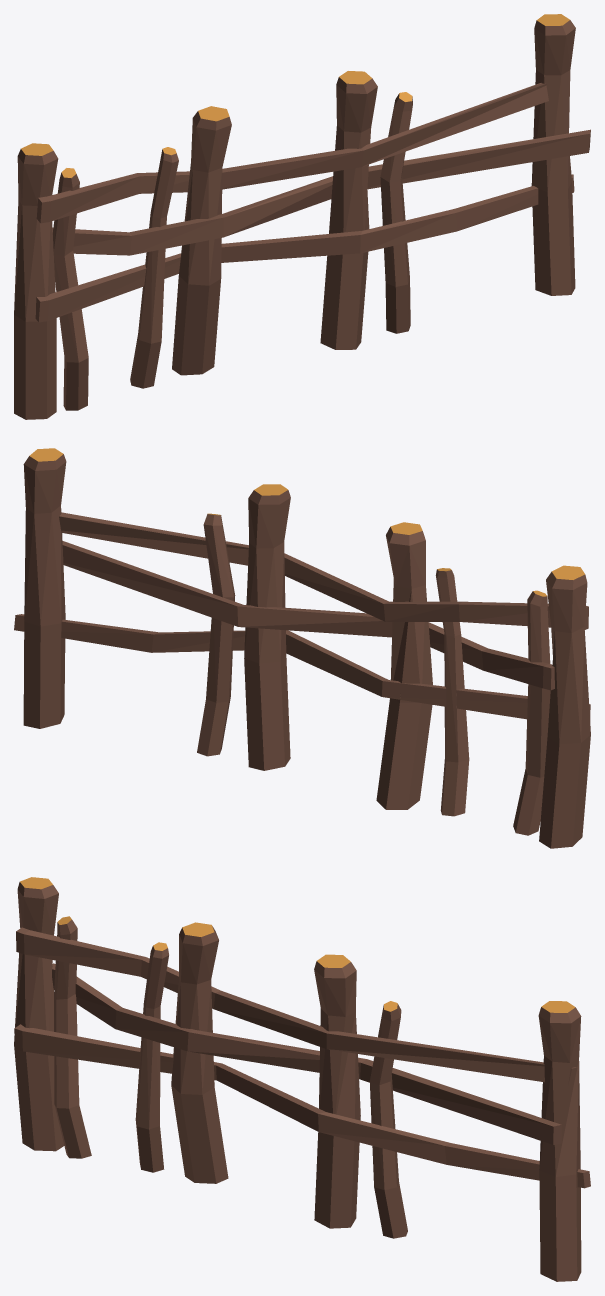
File: gate.glb
The picture shows the model from 3 angles, top to bottom: view 1: azimuth 30°, elevation 25°; view 2: azimuth 150°, elevation 25°; view 3: azimuth 330°, elevation 25°; orthographic projection.
Visible parts, largest first — view 1: group2124609110; view 2: group2124609110; view 3: group2124609110.
Boxes of the visible parts, <box> form: group2124609110: <box>14,14,590,419</box>; group2124609110: <box>14,448,590,848</box>; group2124609110: <box>14,877,590,1281</box>.
Size of the model in its own units: 1.34 by 0.6274 by 0.1565.
